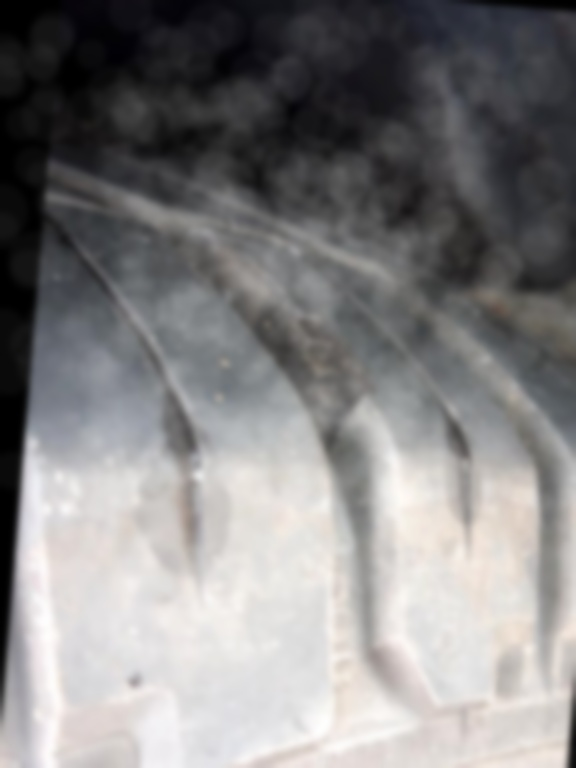temoin:90: (247, 289, 393, 465)
